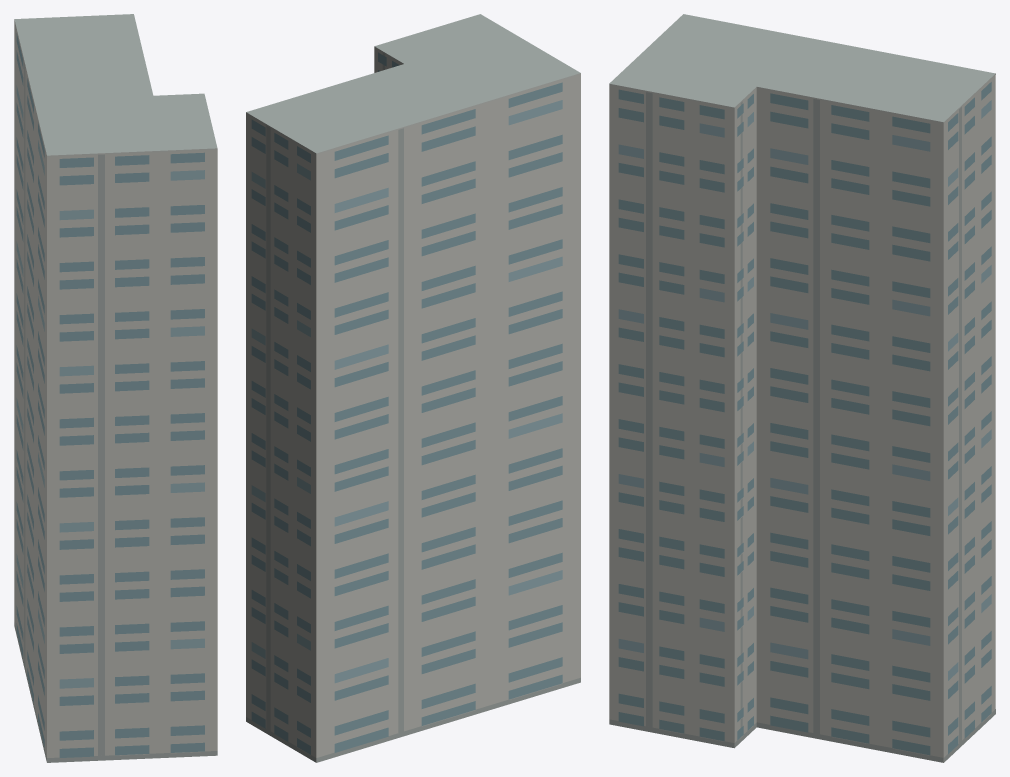
Rendered from residential-498f41df-3a7d-46a1-bf49-c2f33de11569.glb.
3 renders of one model, left to right at view 1: azimuth 30°, elevation 25°; view 2: azimuth 150°, elevation 25°; view 3: azimuth 270°, elevation 25°, orthographic. The views are drawn at different scales.
Visible parts, largest first — view 1: residential-498f41df-3a7d-46a1-bf49-c2f33de11569.tmp; view 2: residential-498f41df-3a7d-46a1-bf49-c2f33de11569.tmp; view 3: residential-498f41df-3a7d-46a1-bf49-c2f33de11569.tmp.
Boxes of the visible parts, x1,y1,x2,y2 form: residential-498f41df-3a7d-46a1-bf49-c2f33de11569.tmp: (14, 14, 217, 762); residential-498f41df-3a7d-46a1-bf49-c2f33de11569.tmp: (246, 14, 580, 762); residential-498f41df-3a7d-46a1-bf49-c2f33de11569.tmp: (609, 14, 995, 762).
Size of the model in its own units: 41.24 by 114 by 62.24.
